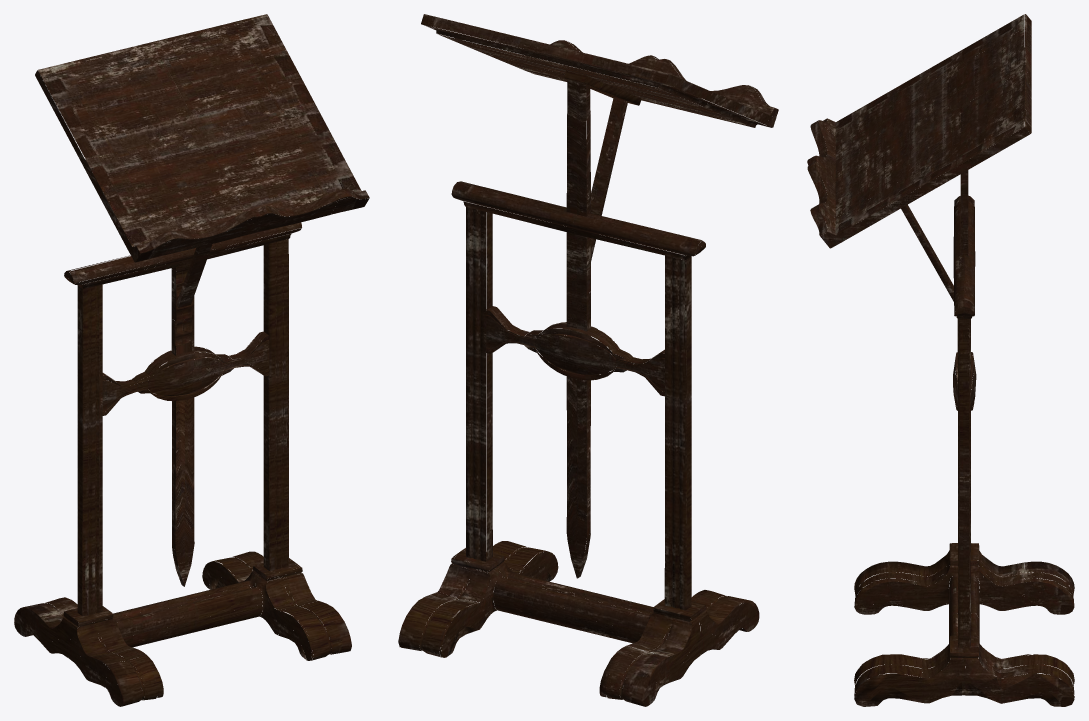
File: bookstand_wood.glb
The picture shows the model from 3 angles, left to right: view 1: azimuth 30°, elevation 25°; view 2: azimuth 150°, elevation 25°; view 3: azimuth 270°, elevation 25°; orthographic projection. The views are drawn at different scales.
Visible parts, largest first — view 1: Object_6; view 2: Object_6; view 3: Object_6.
Part boxes in pixels (x1,y1,x2,y2): Object_6: (14, 14, 369, 706); Object_6: (398, 14, 778, 706); Object_6: (807, 14, 1074, 706).
Size of the model in its own units: 50 by 120 by 50.1.
1 material, 1 textured.
